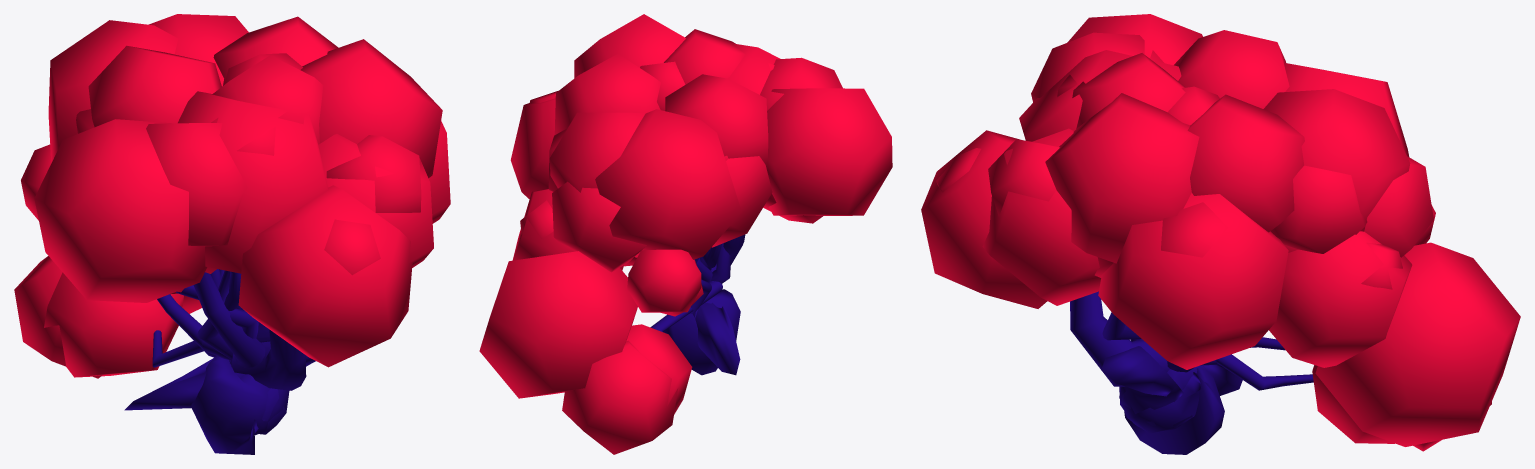
The model's file is MarioTree1.fbx.
3 renders of one model, left to right at view 1: azimuth 30°, elevation 25°; view 2: azimuth 150°, elevation 25°; view 3: azimuth 270°, elevation 25°, orthographic. The views are drawn at different scales.
Visible parts, largest first — view 1: merge1; view 2: merge1; view 3: merge1.
Part boxes in pixels (x1,y1,x2,y2): merge1: (14,14,450,454); merge1: (479,14,892,454); merge1: (921,14,1520,454).
Bounding box in the file's own units: 18.38 × 17.14 × 23.
